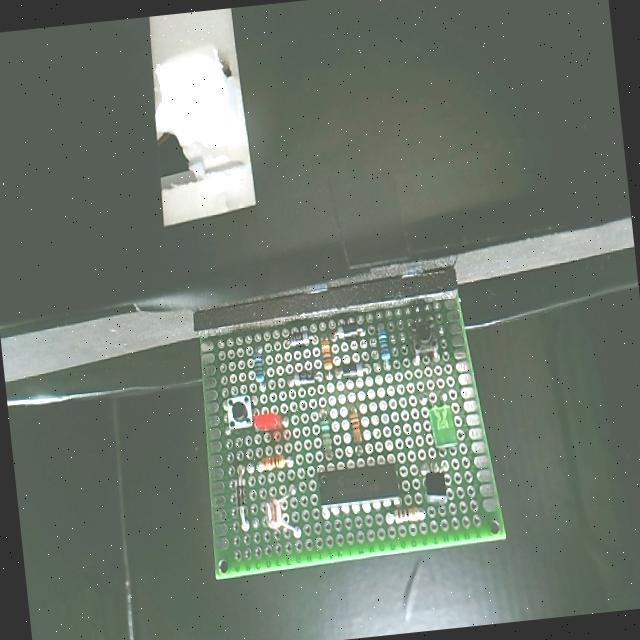IC: (310, 455, 406, 515)
cds: (260, 496, 286, 532)
diode: (336, 355, 367, 384), (230, 474, 252, 514), (280, 329, 312, 352), (336, 314, 360, 344), (290, 366, 316, 392)
led: (427, 402, 458, 456), (255, 404, 282, 442)
resistor: (256, 442, 292, 479), (245, 340, 268, 394), (391, 498, 426, 530), (343, 400, 366, 448), (312, 327, 333, 375), (316, 416, 340, 454), (376, 324, 393, 372)
switch: (406, 316, 439, 361), (224, 390, 253, 434)
transistor: (424, 468, 450, 502)
